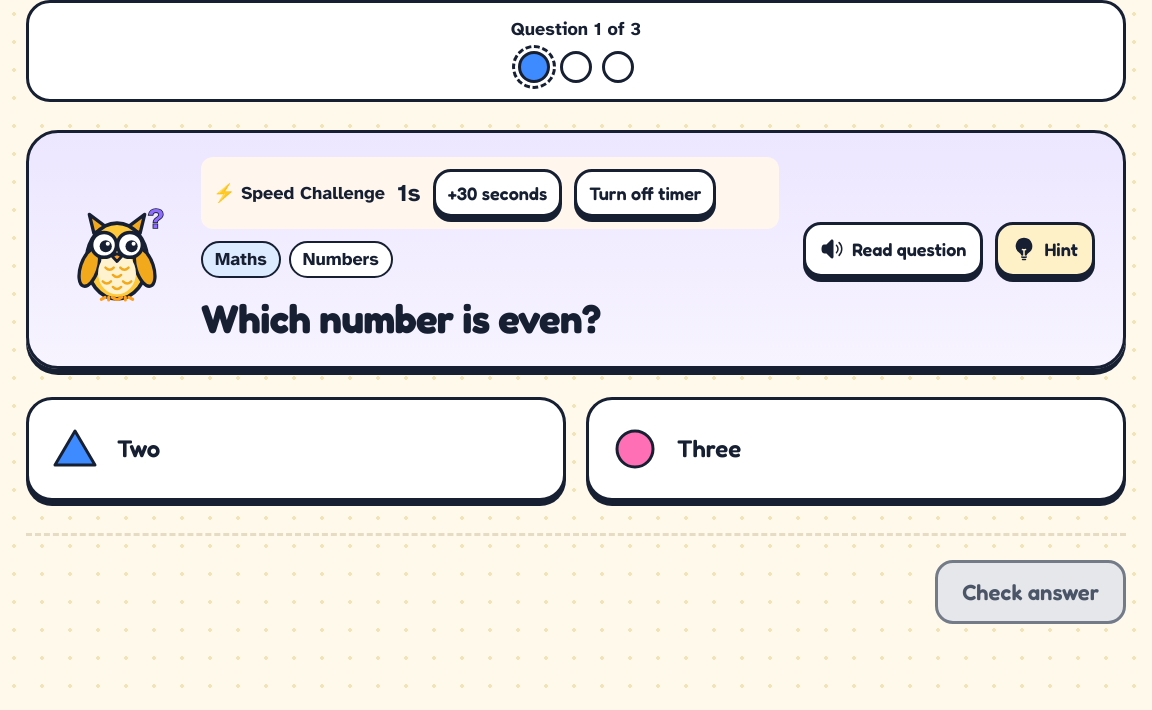
Scenario: QuizView check then next › does not run a timer in standard mode and stops a speed timer immediately after Check
Click the radio button with aria-label "Option: Two" at [75, 449], box [26,397,566,501]
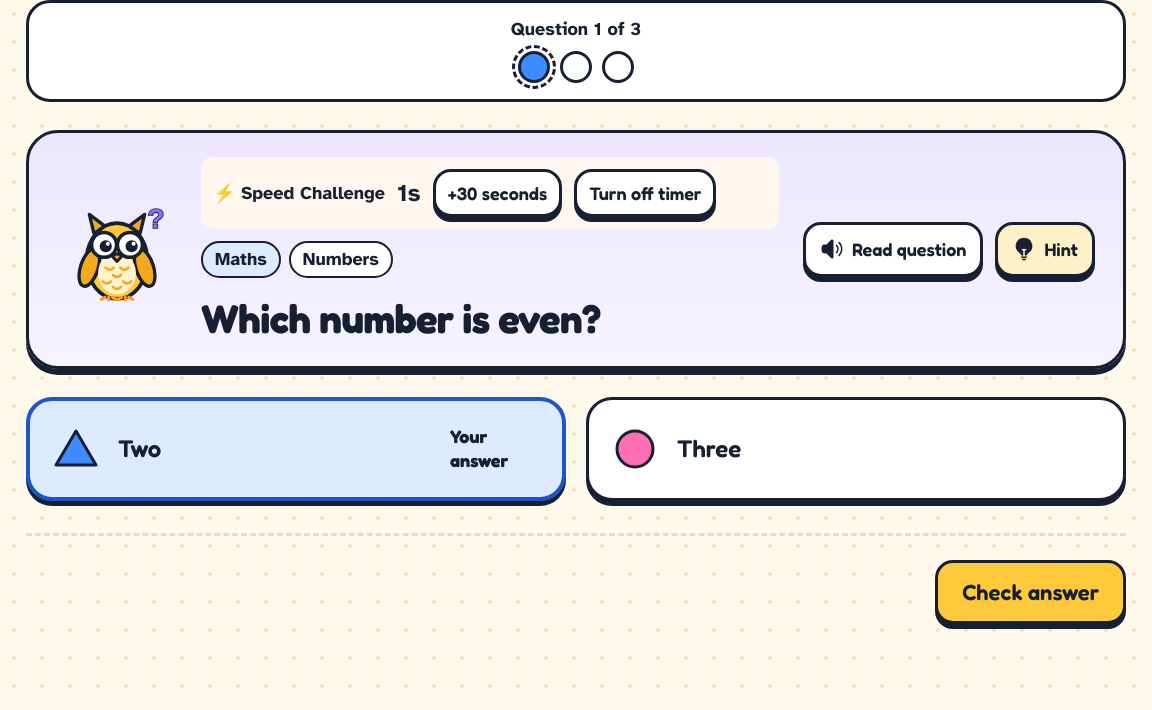
Click the button "Check answer" at [1031, 592], box [935,560,1126,624]
Wait 30000 ms
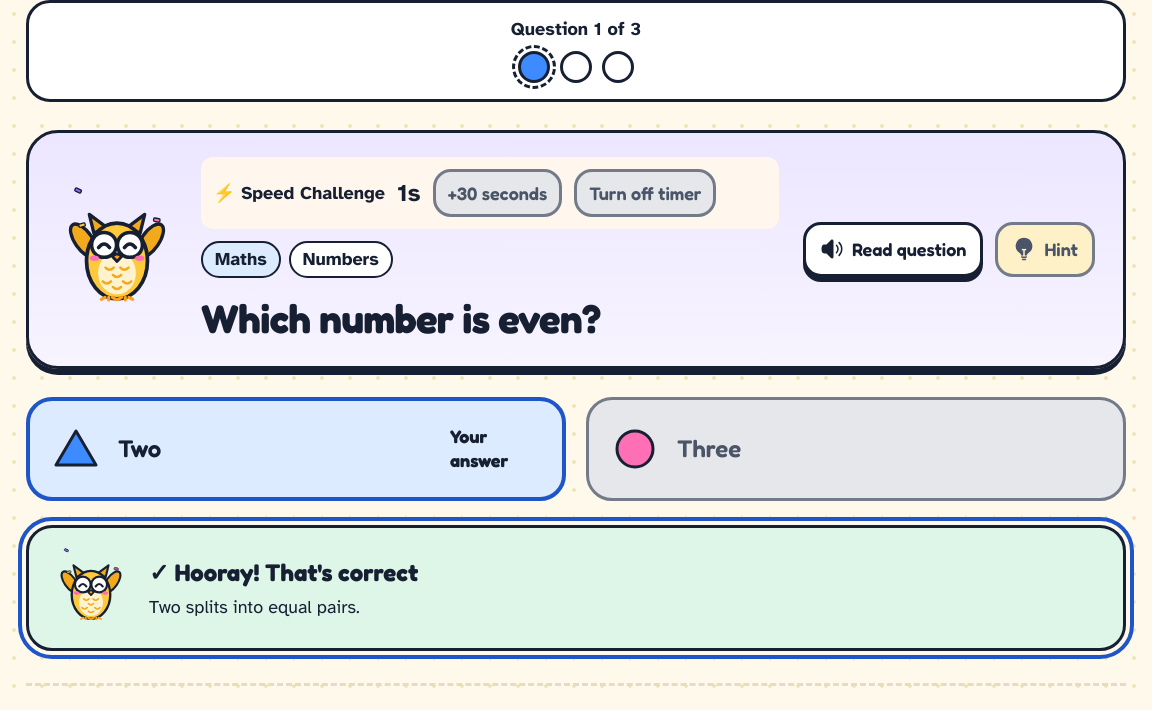
Expected: the message named "Answer feedback" shows "Hooray! That's correct", [175,558,418,587]
